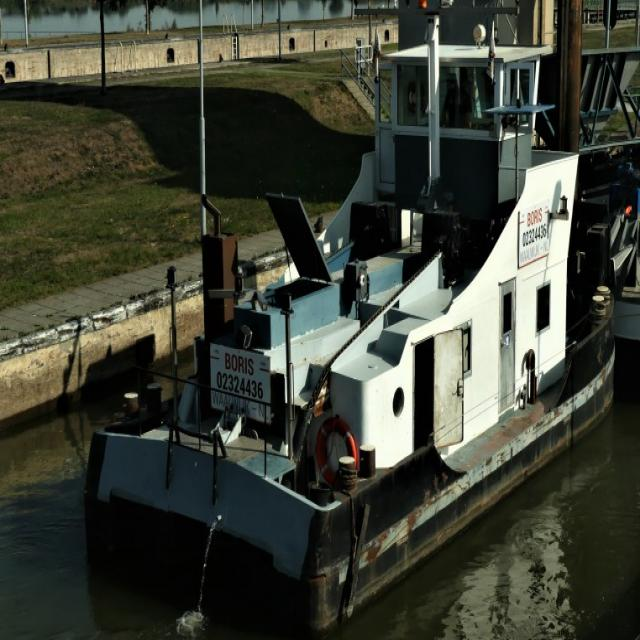tugboat: (72, 9, 622, 640)
